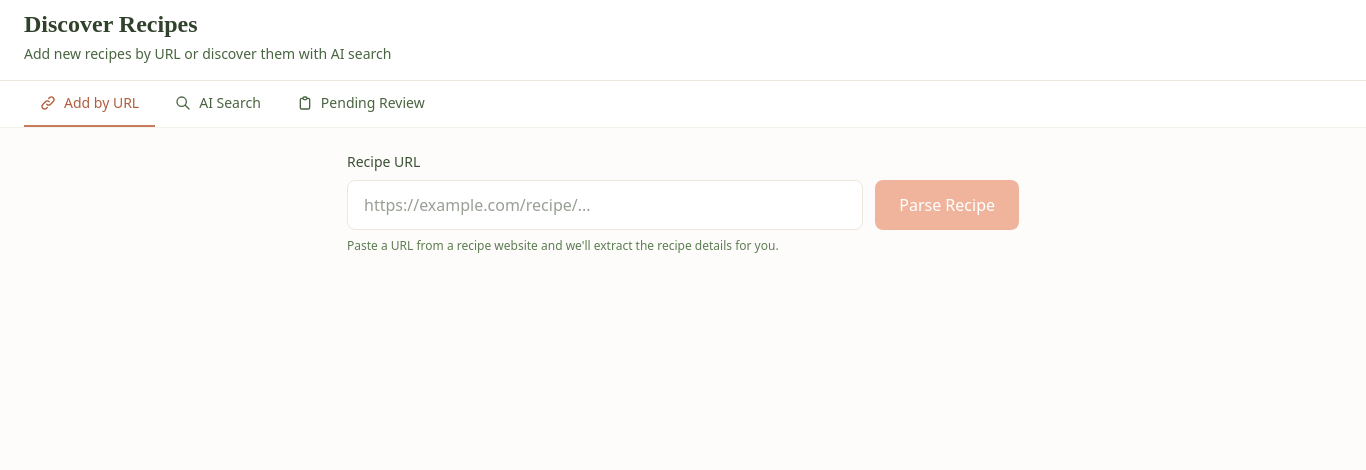
DiscoverPage › Tab Switching › switches between tabs
Expected: the field with placeholder "https://example.com/recipe/..." is shown, x1=347 y1=180 x2=863 y2=230
Switch to search tab
Step 1. Click the button "AI Search" → (218, 104), box x1=159 y1=81 x2=277 y2=127
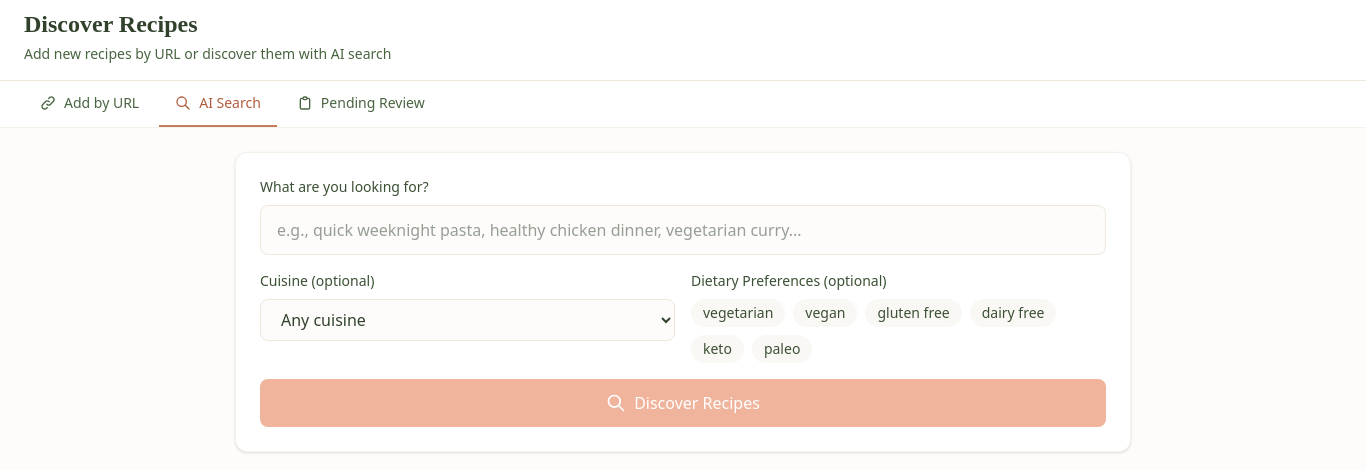
Expected: the field with placeholder "quick weeknight pasta" is shown, x1=260 y1=205 x2=1106 y2=255
Switch to pending tab
Step 2. Click the button "Pending Review" → (361, 104), box x1=281 y1=81 x2=441 y2=127
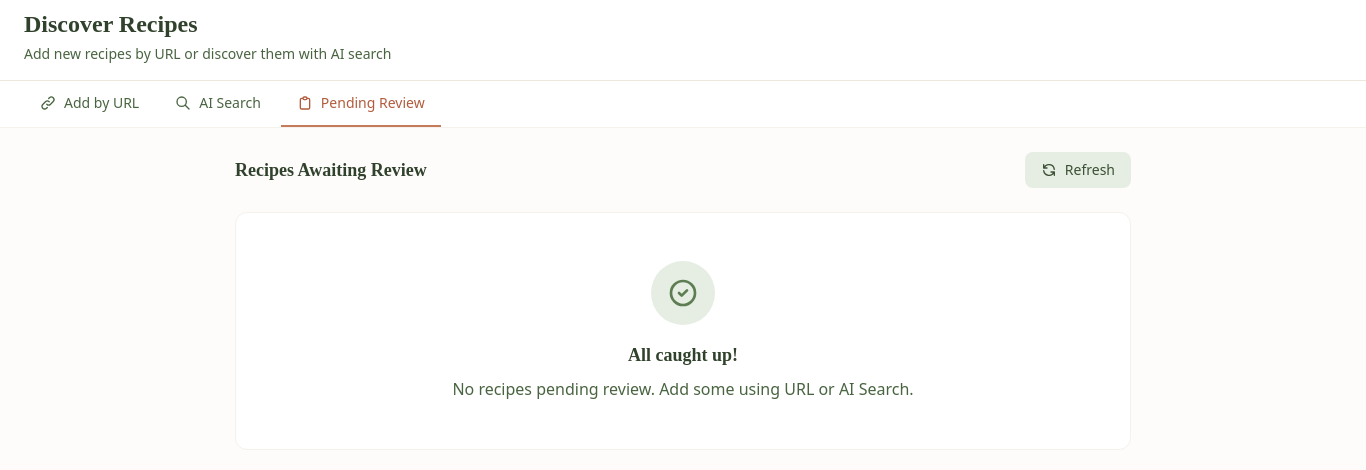
Expected: the heading "Recipes Awaiting Review" is shown, x1=235 y1=156 x2=427 y2=184
